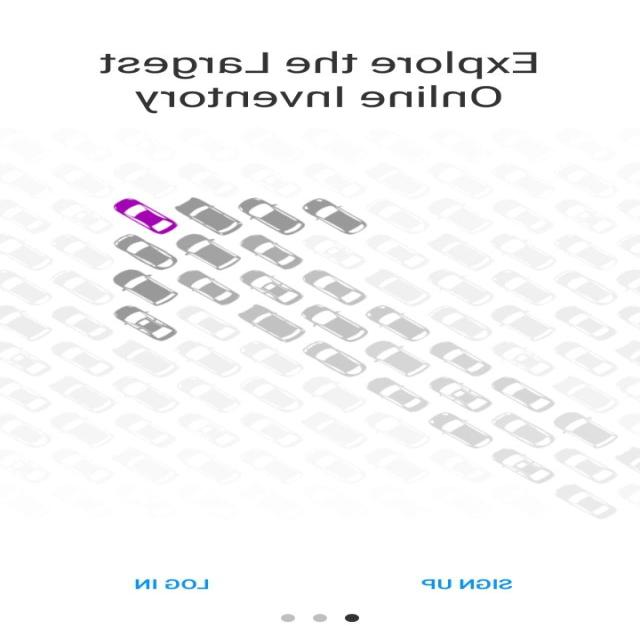Image: (1, 128, 640, 520)
Text: (100, 52, 538, 114), (422, 578, 512, 589), (135, 578, 209, 589)
